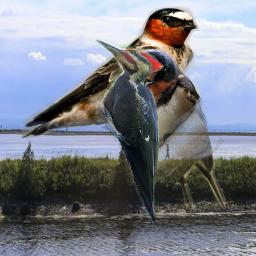Swallow: (21, 5, 199, 138), (104, 49, 226, 209)
Woodpecker: (93, 38, 164, 224)
